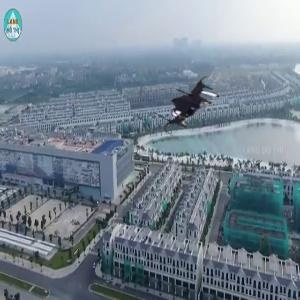drone: (152, 67, 229, 144)
